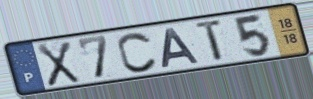5: (231, 12, 273, 59)
7: (75, 33, 111, 81)
A: (160, 26, 203, 69)
C: (116, 31, 160, 74)
T: (195, 17, 226, 65)
X: (35, 40, 82, 88)
